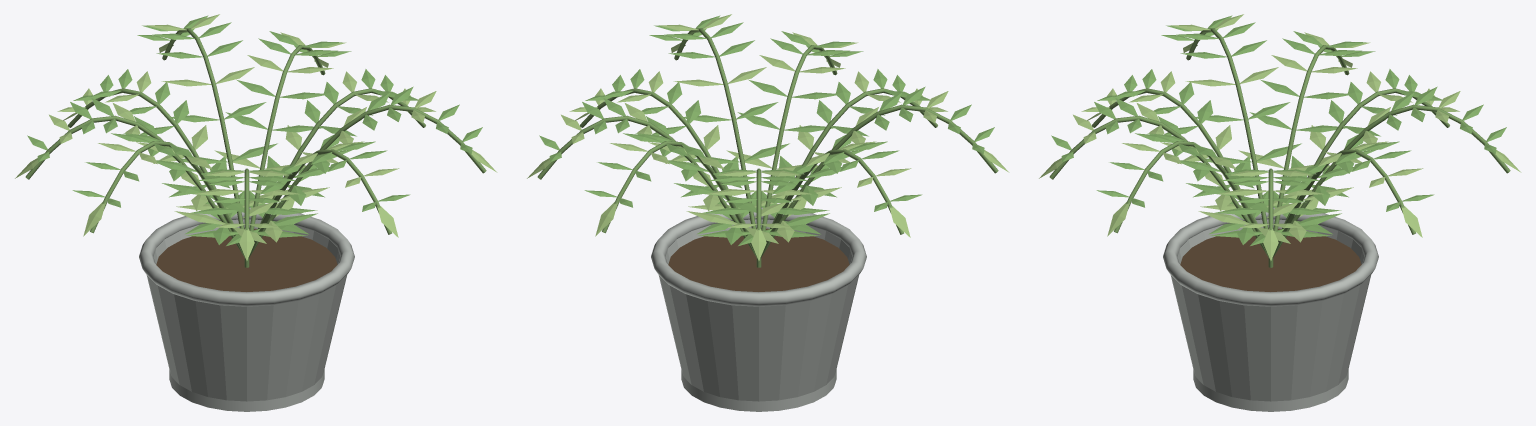
File: houseplant_fern.glb
3 views of the same model, side by side, from view 1: azimuth 30°, elevation 25°; view 2: azimuth 150°, elevation 25°; view 3: azimuth 270°, elevation 25° (orthographic).
Parts seen in each view (by area): view 1: Fern_Open_Pot, Fern_Visible_Soil, Fern_Pot_Rim, Fern_Pot_Floor, Fern_Arching_Frond_Stem_8, Fern_Arching_Frond_Stem_2, Fern_Arching_Frond_Stem_4, Fern_Arching_Frond_Stem_1, Fern_Arching_Frond_Stem_5, Fern_Arching_Frond_Stem_3, Fern_Arching_Frond_Stem_7, Fern_Arching_Frond_Stem_0; view 2: Fern_Open_Pot, Fern_Visible_Soil, Fern_Pot_Rim, Fern_Pot_Floor, Fern_Arching_Frond_Stem_5, Fern_Arching_Frond_Stem_8, Fern_Arching_Frond_Stem_1, Fern_Arching_Frond_Stem_7, Fern_Arching_Frond_Stem_2, Fern_Arching_Frond_Stem_0, Fern_Arching_Frond_Stem_4, Fern_Arching_Frond_Stem_6; view 3: Fern_Open_Pot, Fern_Visible_Soil, Fern_Pot_Rim, Fern_Pot_Floor, Fern_Arching_Frond_Stem_2, Fern_Arching_Frond_Stem_5, Fern_Arching_Frond_Stem_7, Fern_Arching_Frond_Stem_4, Fern_Arching_Frond_Stem_8, Fern_Arching_Frond_Stem_6, Fern_Arching_Frond_Stem_1, Fern_Arching_Frond_Stem_3.
Part boxes in pixels (x1,y1,x2,y2): Fern_Open_Pot: (146, 219, 346, 401); Fern_Visible_Soil: (156, 228, 337, 291); Fern_Pot_Rim: (139, 207, 354, 306); Fern_Pot_Floor: (169, 369, 324, 411); Fern_Arching_Frond_Stem_8: (248, 104, 486, 258); Fern_Arching_Frond_Stem_2: (162, 28, 244, 229); Fern_Arching_Frond_Stem_4: (25, 115, 245, 258); Fern_Arching_Frond_Stem_1: (249, 45, 325, 230); Fern_Arching_Frond_Stem_5: (90, 141, 245, 257); Fern_Arching_Frond_Stem_3: (68, 88, 233, 223); Fern_Arching_Frond_Stem_7: (248, 149, 391, 257); Fern_Arching_Frond_Stem_0: (258, 88, 425, 228); Fern_Open_Pot: (658, 219, 858, 401); Fern_Visible_Soil: (668, 228, 849, 291); Fern_Pot_Rim: (651, 207, 866, 306); Fern_Pot_Floor: (681, 369, 836, 411); Fern_Arching_Frond_Stem_5: (760, 104, 998, 258); Fern_Arching_Frond_Stem_8: (674, 28, 756, 229); Fern_Arching_Frond_Stem_1: (537, 115, 757, 258); Fern_Arching_Frond_Stem_7: (761, 45, 837, 230); Fern_Arching_Frond_Stem_2: (602, 141, 757, 257); Fern_Arching_Frond_Stem_0: (580, 88, 745, 223); Fern_Arching_Frond_Stem_4: (760, 149, 903, 257); Fern_Arching_Frond_Stem_6: (770, 88, 937, 228); Fern_Open_Pot: (1170, 219, 1370, 401); Fern_Visible_Soil: (1180, 228, 1361, 291); Fern_Pot_Rim: (1163, 207, 1378, 306); Fern_Pot_Floor: (1193, 369, 1348, 411); Fern_Arching_Frond_Stem_2: (1272, 104, 1510, 258); Fern_Arching_Frond_Stem_5: (1186, 28, 1268, 229); Fern_Arching_Frond_Stem_7: (1049, 115, 1269, 258); Fern_Arching_Frond_Stem_4: (1273, 45, 1349, 230); Fern_Arching_Frond_Stem_8: (1114, 141, 1269, 257); Fern_Arching_Frond_Stem_6: (1092, 88, 1257, 223); Fern_Arching_Frond_Stem_1: (1272, 149, 1415, 257); Fern_Arching_Frond_Stem_3: (1282, 88, 1449, 228).
Size of the model in its own units: 0.8708 by 0.6023 by 0.9208.
